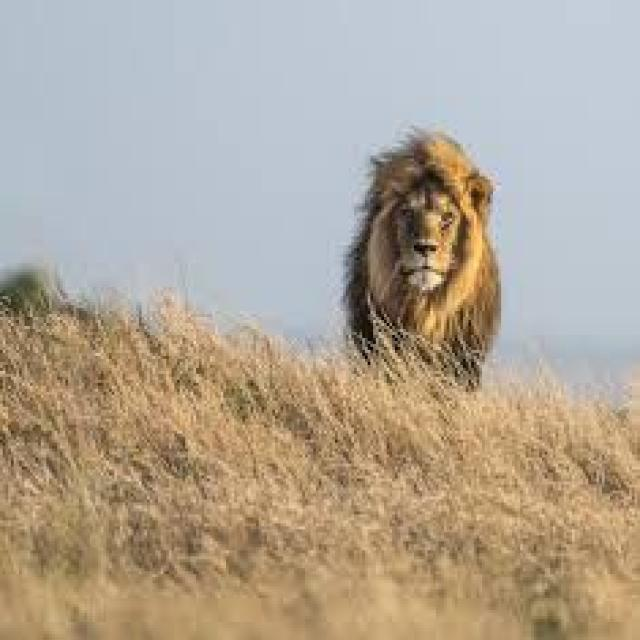Lion: (349, 132, 504, 373)
